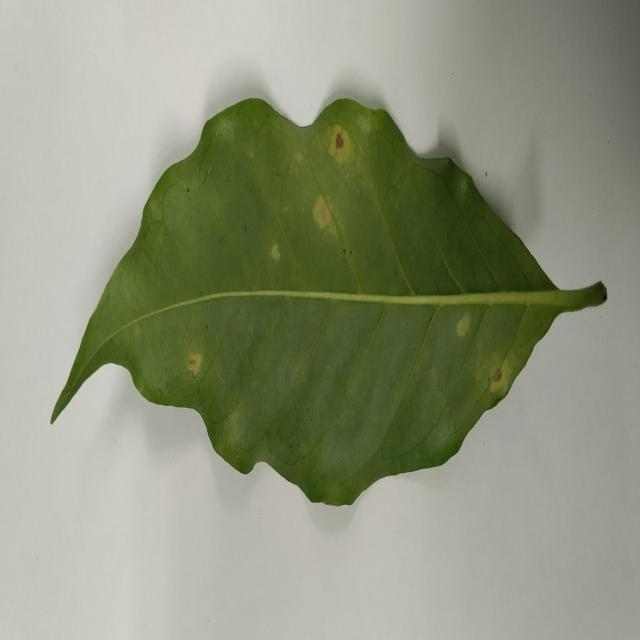Enfermedad-Roya: (48, 99, 608, 511)
